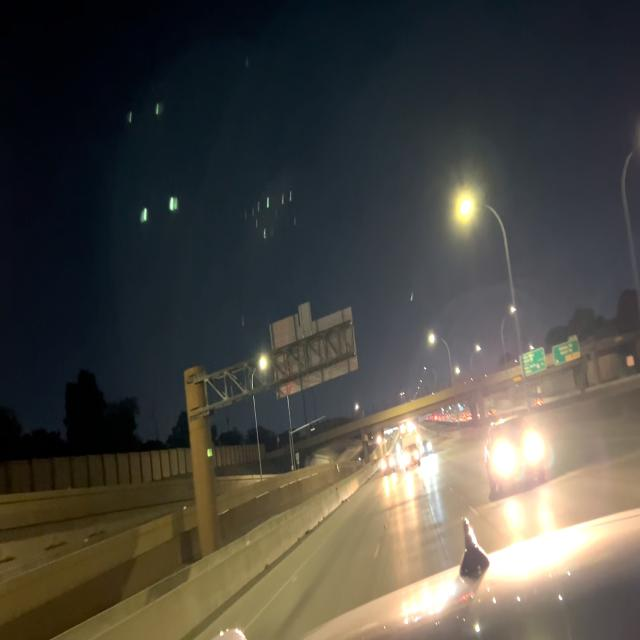back-of-sign: (268, 298, 359, 397)
